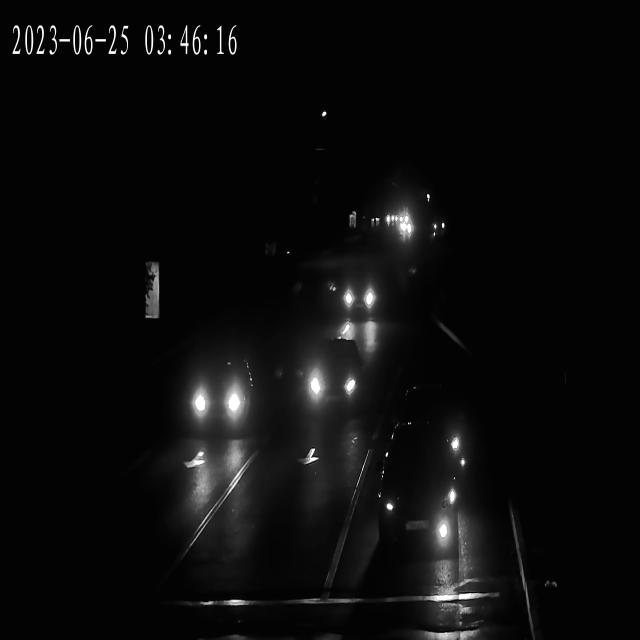Car: (373, 466, 461, 558), (182, 359, 252, 438), (296, 340, 370, 410), (335, 270, 382, 318), (397, 217, 414, 239)
